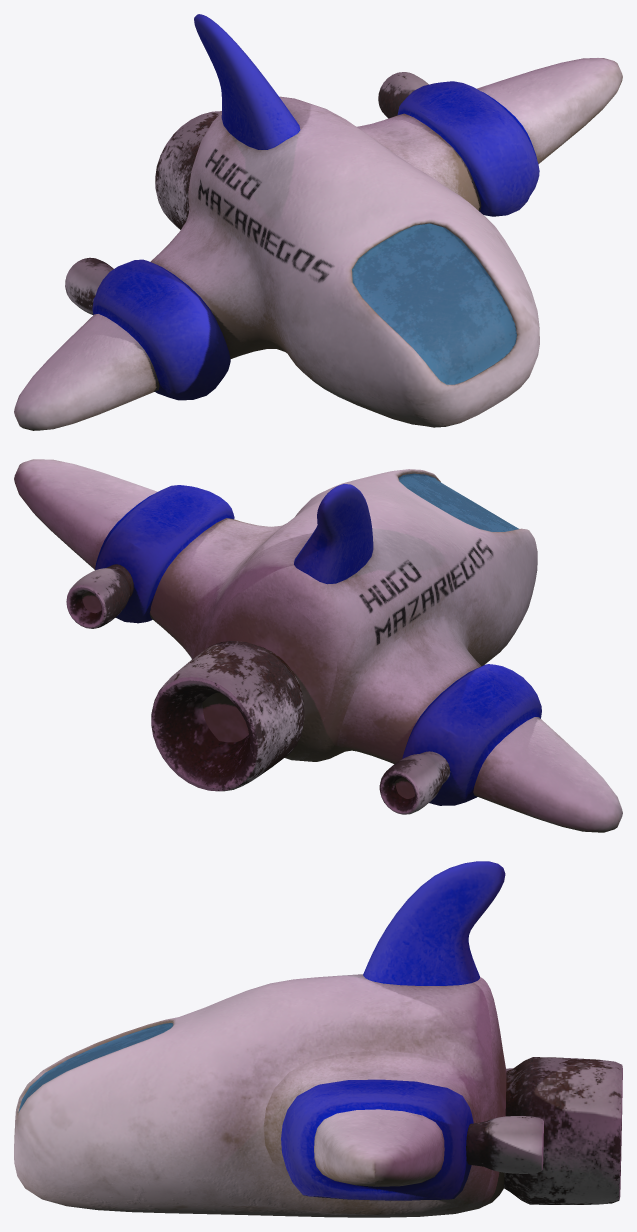
File: Spaceship.glb
3 renders of one model, top to bottom at view 1: azimuth 30°, elevation 25°; view 2: azimuth 150°, elevation 25°; view 3: azimuth 270°, elevation 25°, orthographic. The views are drawn at different scales.
Visible parts, largest first — view 1: SHIP; view 2: SHIP; view 3: SHIP.
Part boxes in pixels (bbox=[...]): SHIP: bbox=[14, 14, 622, 430]; SHIP: bbox=[14, 459, 622, 832]; SHIP: bbox=[14, 861, 622, 1217].
Bounding box in the file's own units: 0.5889 × 0.299 × 0.4688.
1 material, 1 textured.
